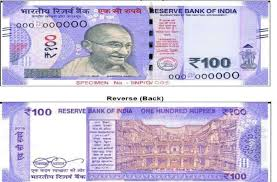hundred: (13, 18, 249, 75)
